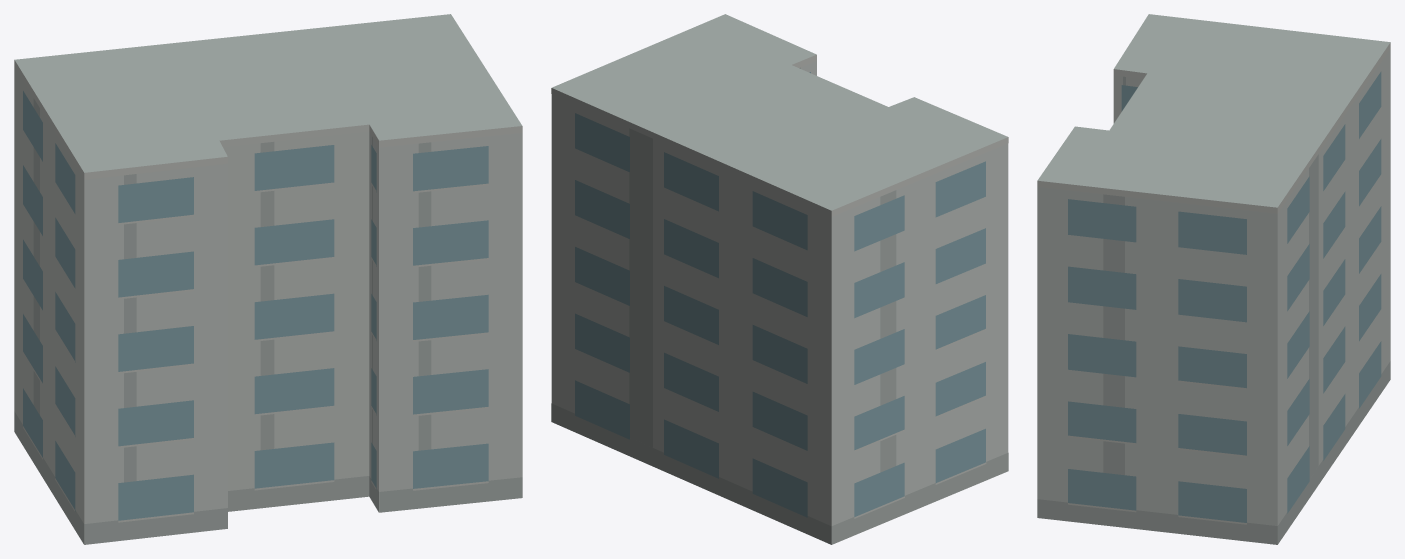
Rendered from survey-upis-32875427.glb.
3 renders of one model, left to right at view 1: azimuth 30°, elevation 25°; view 2: azimuth 150°, elevation 25°; view 3: azimuth 270°, elevation 25°, orthographic. The views are drawn at different scales.
Parts seen in each view (by area): view 1: survey-upis-32875427.tmp; view 2: survey-upis-32875427.tmp; view 3: survey-upis-32875427.tmp.
Part boxes in pixels (x1=…): survey-upis-32875427.tmp: x1=14, y1=14, x2=522, y2=544; survey-upis-32875427.tmp: x1=551, y1=14, x2=1008, y2=544; survey-upis-32875427.tmp: x1=1037, y1=14, x2=1390, y2=544.
Size of the model in its own units: 16.02 by 13 by 12.35.
